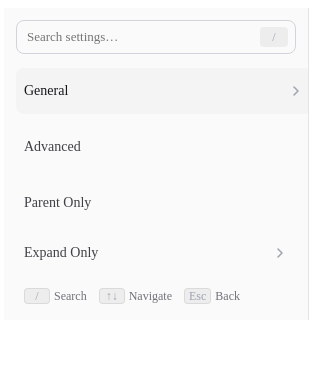
Scenario: SetteraSidebar › controlled navigation with getPageUrl › renders child page links when parent is expanded
The width and height of the screenshot is (329, 387).
# Expand General to show Privacy child
Click the link "General" at {"x": 46, "y": 90}, box [16,68,312,114]
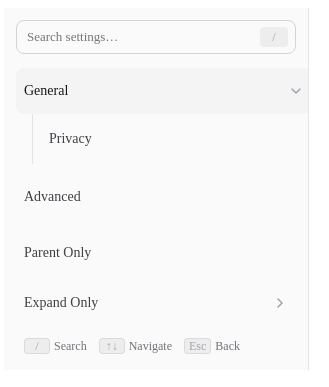
expect the link "Privacy" is shown: met, box [49,131,92,146]
